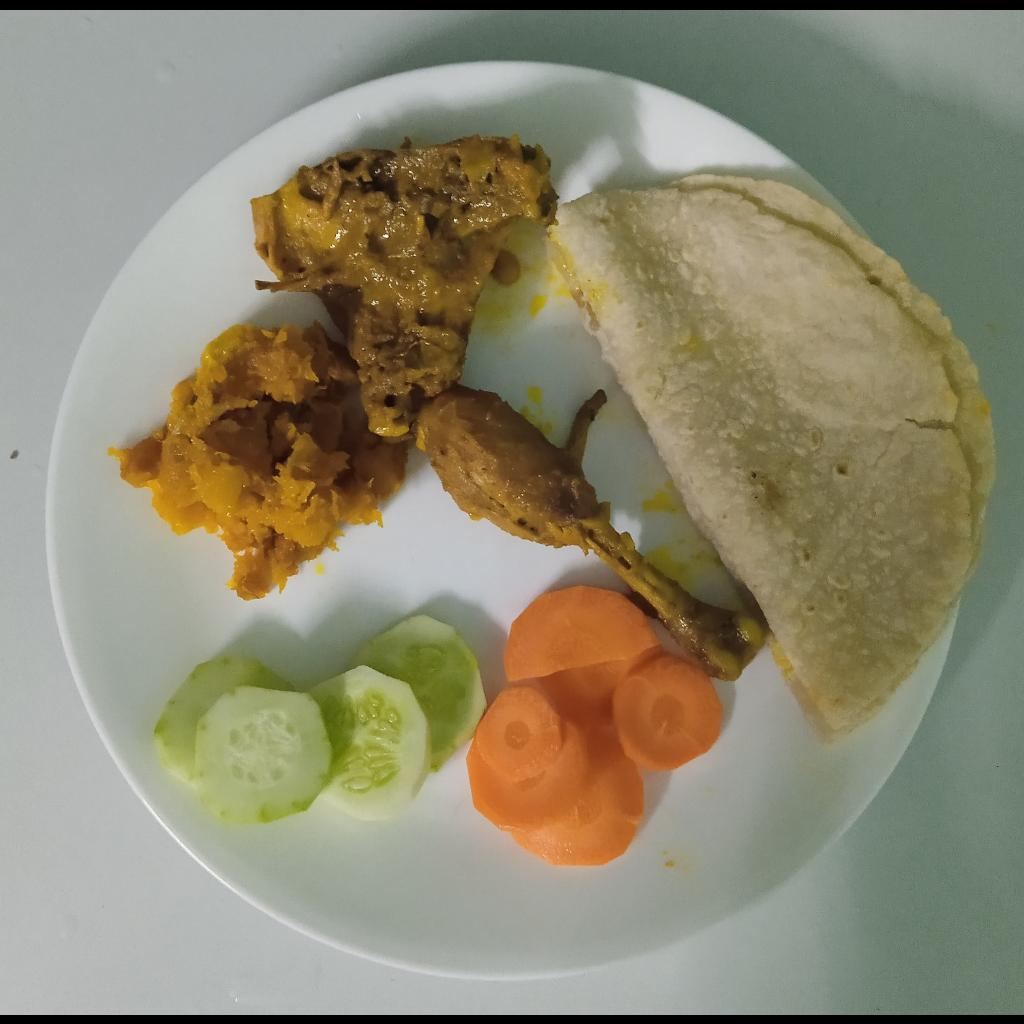carrot: (463, 580, 726, 867)
chicken: (417, 386, 769, 681), (251, 136, 564, 435)
cucumber: (149, 612, 487, 828)
kumra-vaji: (111, 319, 408, 600)
ruti: (551, 167, 996, 746)
